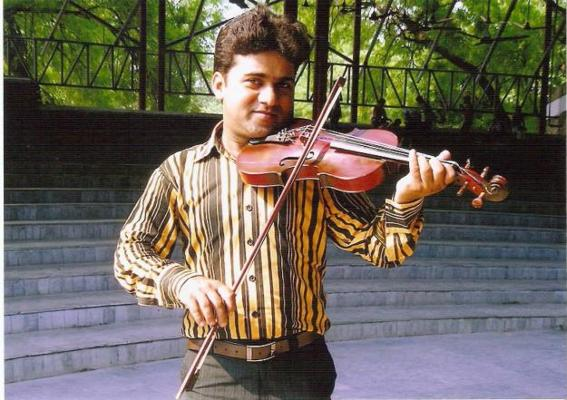person: (113, 5, 458, 400)
